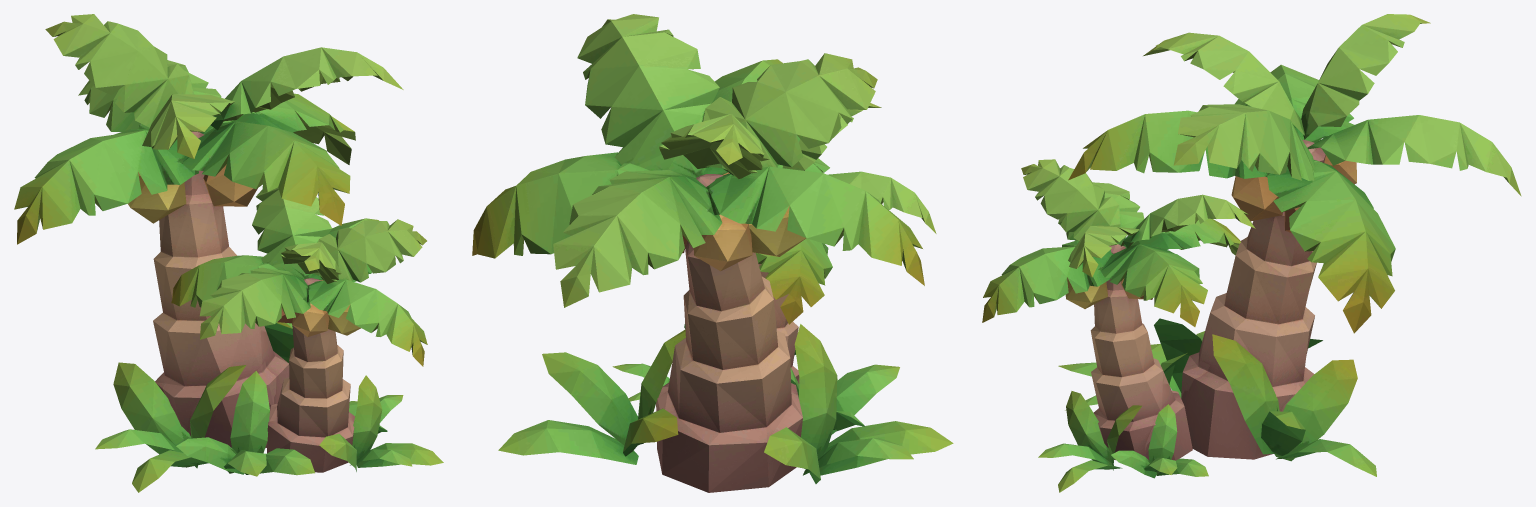
Rendered from Props.fbx.
The picture shows the model from 3 angles, left to right: view 1: azimuth 30°, elevation 25°; view 2: azimuth 150°, elevation 25°; view 3: azimuth 270°, elevation 25°; orthographic projection. The views are drawn at different scales.
Parts seen in each view (by area): view 1: yezishu01; view 2: yezishu01; view 3: yezishu01.
Part boxes in pixels (left/top/right/bottom): yezishu01: left=14, top=14, right=443, bottom=492; yezishu01: left=472, top=14, right=953, bottom=492; yezishu01: left=982, top=14, right=1521, bottom=492.
Size of the model in its own units: 8.34 by 8.33 by 10.35.
1 material, 1 textured.
